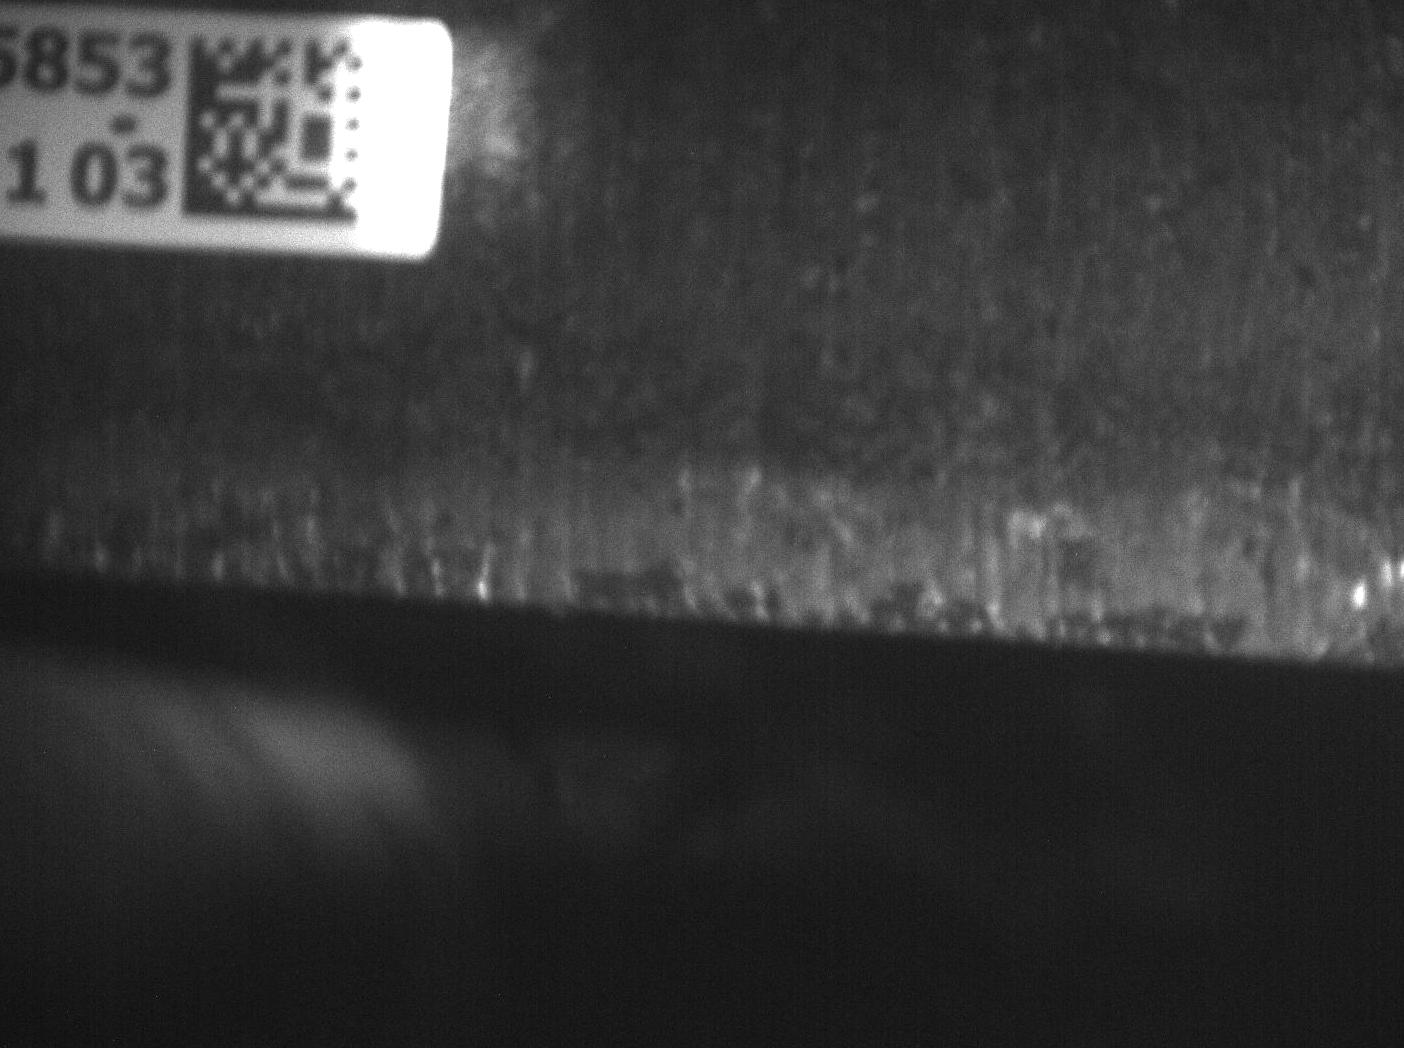data matrix: (177, 18, 380, 239)
